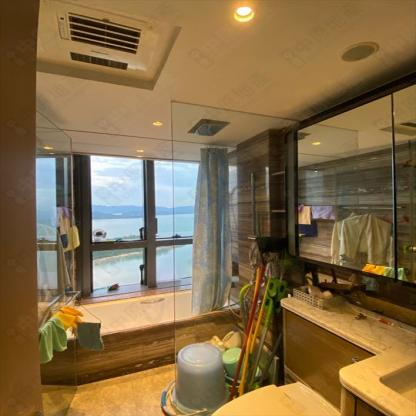Bathtub: (76, 287, 246, 333)
Water Cubicle: (170, 101, 301, 354)
